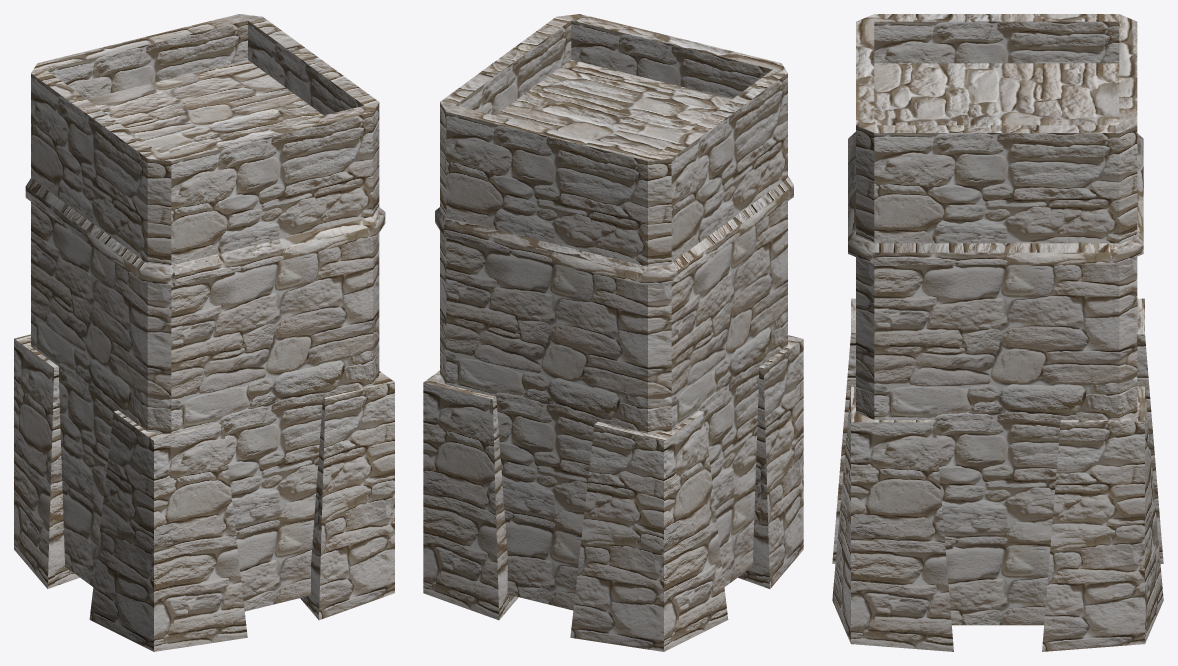
Rendered from wall3.FBX.
The picture shows the model from 3 angles, left to right: view 1: azimuth 30°, elevation 25°; view 2: azimuth 150°, elevation 25°; view 3: azimuth 270°, elevation 25°; orthographic projection. The views are drawn at different scales.
Parts seen in each view (by area): view 1: ChamferBox003; view 2: ChamferBox003; view 3: ChamferBox003.
Part boxes in pixels (x1,y1,x2,y2): ChamferBox003: [14, 14, 394, 651]; ChamferBox003: [423, 14, 803, 651]; ChamferBox003: [832, 14, 1163, 651].
Size of the model in its own units: 11.72 by 19.95 by 11.78.
